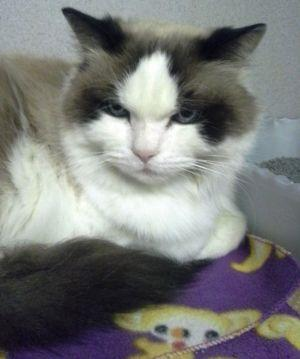ragdoll: (50, 1, 281, 202)
